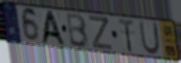6: (20, 6, 41, 45)
A: (39, 10, 67, 47)
B: (66, 12, 90, 50)
T: (117, 18, 135, 54)
U: (138, 20, 162, 56)
Z: (88, 14, 114, 51)
